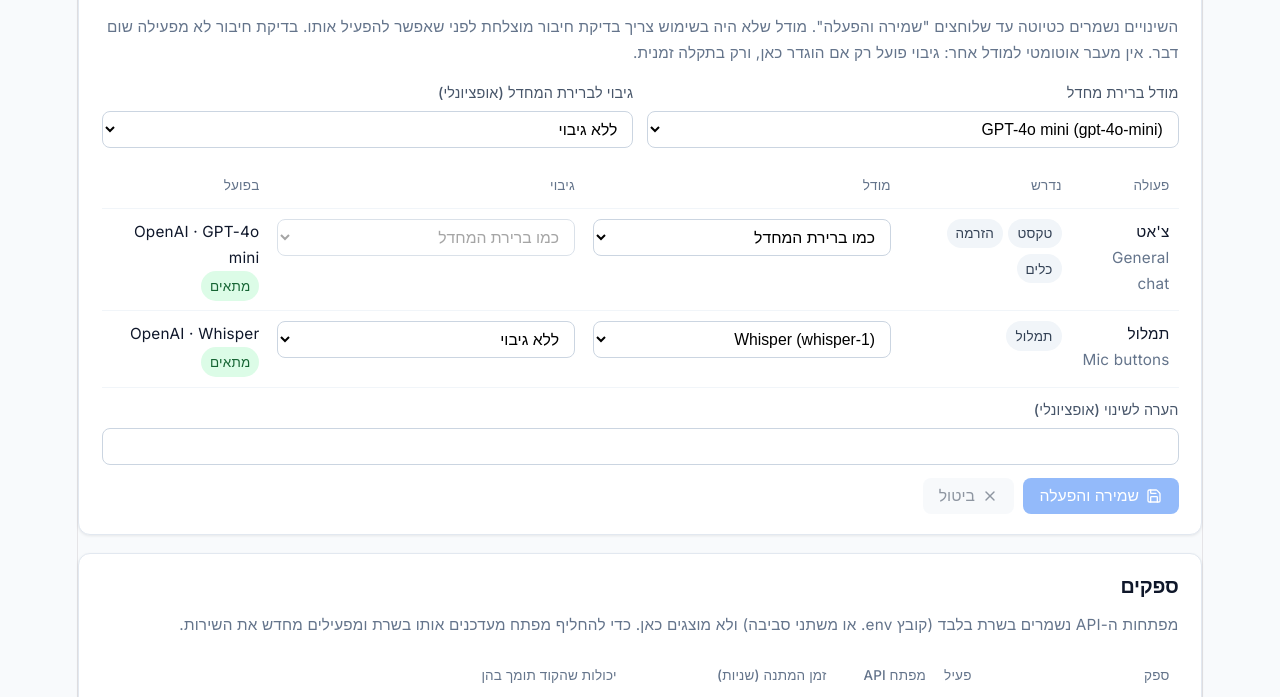
Test: AiSettings › warns when a selected model lacks a capability the operation needs
(page scrolled)
Select "Claude Sonnet 5.5 (claude-sonnet-5-5)" in the dropdown named "מודל עבור תמלול" at coordinates (742, 340), box [593,321,891,358]
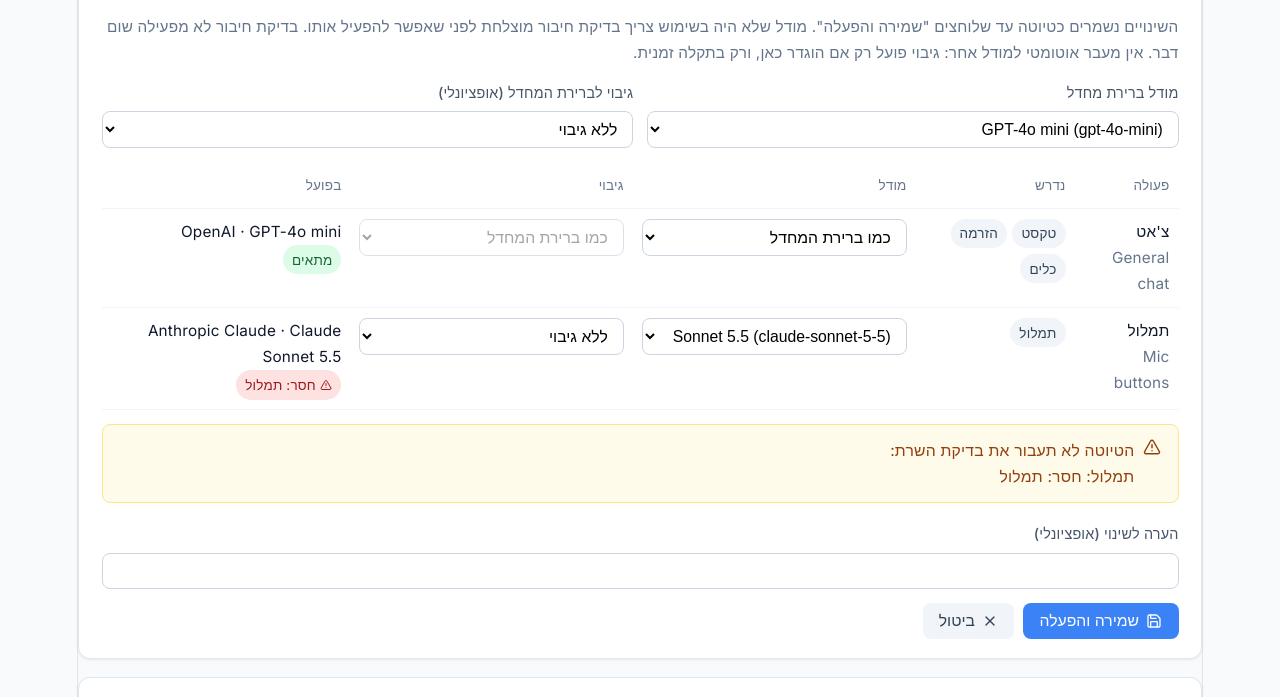
Result: the text "הטיוטה לא תעבור את בדיקת השרת: תמלול: חסר: תמלול" is shown at [890,438,1134,490]
Result: the text "חסר: תמלול" is shown at [236,370,341,400]
